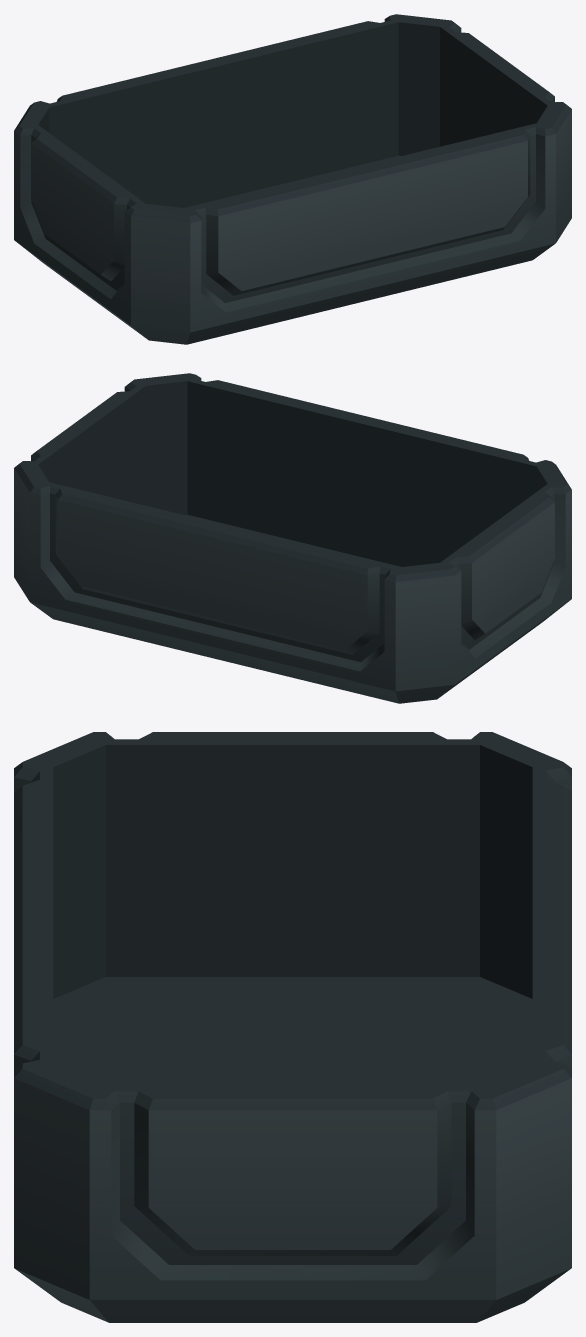
Rendered from Crate_013.fbx.
3 views of the same model, one above another, from view 1: azimuth 30°, elevation 25°; view 2: azimuth 150°, elevation 25°; view 3: azimuth 270°, elevation 25° (orthographic). The views are drawn at different scales.
Visible parts, largest first — view 1: Crate_013; view 2: Crate_013; view 3: Crate_013.
Part boxes in pixels (<box>): Crate_013: <box>14,14,571,344</box>; Crate_013: <box>14,373,571,703</box>; Crate_013: <box>14,732,571,1322</box>.
Bounding box in the file's own units: 102 × 64.05 × 30.46.
